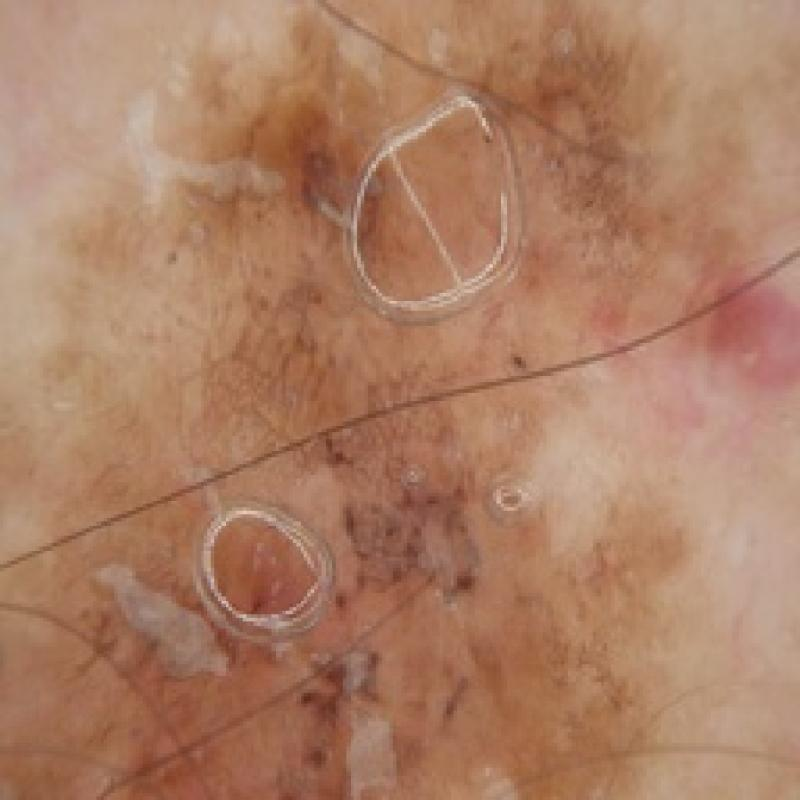malignant: (60, 34, 674, 795)
